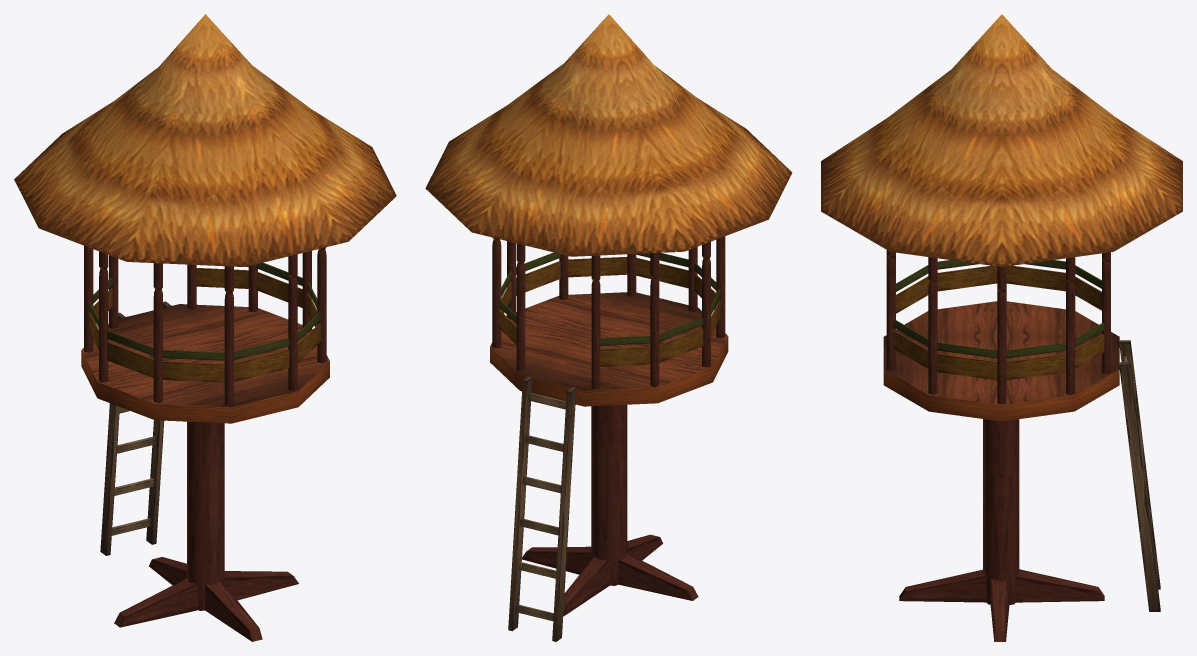
File: ETC0610031.fbx
3 views of the same model, side by side, from view 1: azimuth 30°, elevation 25°; view 2: azimuth 150°, elevation 25°; view 3: azimuth 270°, elevation 25° (orthographic). The views are drawn at different scales.
Parts seen in each view (by area): view 1: smETC0610031; view 2: smETC0610031; view 3: smETC0610031.
Boxes of the visible parts, bbox=[...] form: smETC0610031: bbox=[14, 14, 396, 641]; smETC0610031: bbox=[425, 14, 792, 641]; smETC0610031: bbox=[821, 14, 1182, 641].
Size of the model in its own units: 451 by 763 by 427.
Materials: 1 (1 with a texture image).
